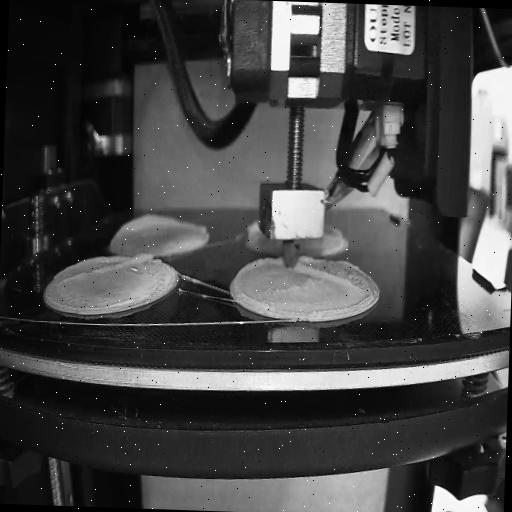over_extrusion: (61, 248, 153, 288), (112, 208, 208, 246), (296, 260, 355, 291)
